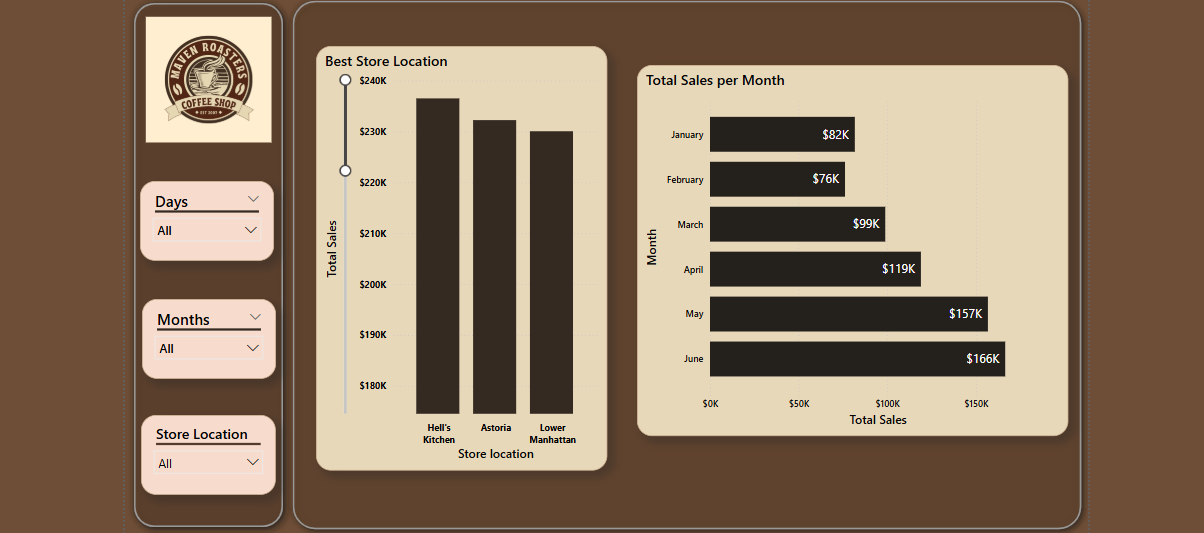

Layout of this report page (visuals, bound fields, positions):
{"tool":"powerbi","page":{"name":"Page 3","canvas":[1280,720],"ordinal":2},"visuals":[{"type":"shape","box":[214,0,1066,720.4],"z":0},{"type":"shape","box":[0,0,222,720.4],"z":1000},{"type":"clusteredColumnChart","title":"Best Store Location","fields":{"Category":["Transactions.store_location"],"Y":["Sum(Transactions.total_price)"]},"box":[253.9,69.1,386.8,563.6],"z":4001},{"type":"clusteredBarChart","title":"Total Sales per Month","fields":{"Y":["Sum(Transactions.total_price)"],"Category":["Transactions.month_name"]},"box":[680.5,94.4,572.9,493.1],"z":4002},{"type":"group","id":"g1","title":"Group 1","box":[6.6,25.3,208.7,640.7],"z":4003},{"type":"slicer","fields":{"Values":["Transactions.store_location"]},"box":[21.2,559.6,179.4,106.3],"z":6002,"group":"g1"},{"type":"slicer","fields":{"Values":["Transactions.month_name"]},"box":[22.6,405.5,178.1,106.3],"z":10000,"group":"g1"},{"type":"slicer","fields":{"Values":["Transactions.day_name"]},"box":[19.9,248.7,178.1,106.3],"z":11000,"group":"g1"},{"type":"image","box":[6.6,25.3,208.7,177.5],"z":12000,"group":"g1"}]}

Visuals, with their boxes on the page's 1280x720 design canvas (x1, y1, x2, y2). These are canvas units, not pixel positions in the 1204x533 screenshot, which may show the page scaled, cropped or inside an application window:
shape: left=214, top=0, right=1280, bottom=720
shape: left=0, top=0, right=222, bottom=720
"Best Store Location" clusteredColumnChart: left=254, top=69, right=641, bottom=633
"Total Sales per Month" clusteredBarChart: left=680, top=94, right=1253, bottom=588
"Group 1" group: left=7, top=25, right=215, bottom=666
slicer - Transactions.store_location: left=21, top=560, right=201, bottom=666
slicer - Transactions.month_name: left=23, top=406, right=201, bottom=512
slicer - Transactions.day_name: left=20, top=249, right=198, bottom=355
image: left=7, top=25, right=215, bottom=203
